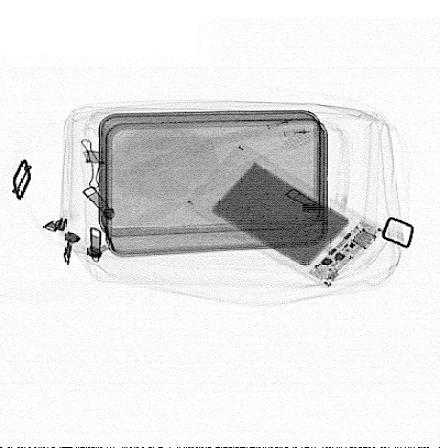Powerbank: (181, 141, 387, 291)
